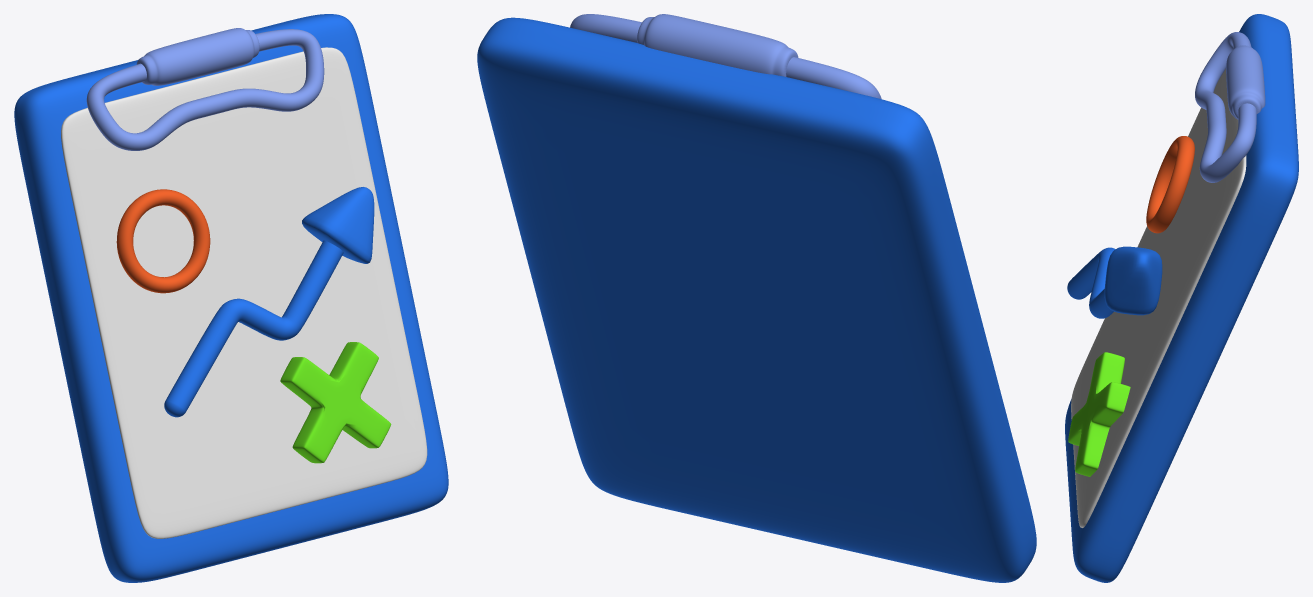
The model's file is strategic-plan-3d-animated-icon-843309819319.glb.
3 views of the same model, side by side, from view 1: azimuth 30°, elevation 25°; view 2: azimuth 150°, elevation 25°; view 3: azimuth 270°, elevation 25° (orthographic). The views are drawn at different scales.
Parts seen in each view (by area): view 1: paper, board, Clip arm, line, x, o; view 2: board, Clip arm; view 3: board, paper, Clip arm, line, x, o.
Part boxes in pixels (left/top/right/bottom): paper: left=61, top=47, right=427, bottom=538; board: left=14, top=14, right=448, bottom=582; Clip arm: left=86, top=28, right=324, bottom=150; line: left=164, top=187, right=374, bottom=417; x: left=280, top=342, right=391, bottom=463; o: left=116, top=189, right=210, bottom=293; board: left=477, top=17, right=1036, bottom=582; Clip arm: left=570, top=14, right=881, bottom=99; board: left=1065, top=14, right=1298, bottom=582; paper: left=1071, top=69, right=1246, bottom=527; Clip arm: left=1195, top=32, right=1265, bottom=182; line: left=1067, top=246, right=1162, bottom=318; x: left=1068, top=352, right=1130, bottom=476; o: left=1146, top=136, right=1194, bottom=233.
Size of what is drawn, in the model's own units: 2.64 by 3.32 by 1.59.
